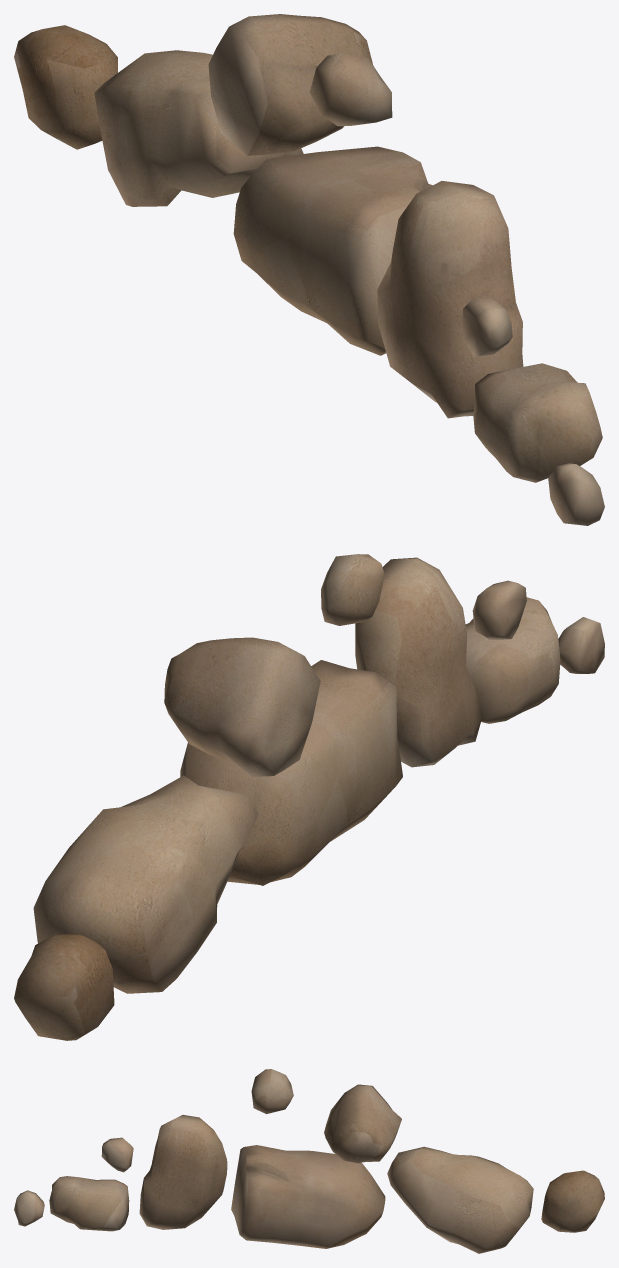
Rendered from props_coalmines_boulder_pile2.glb.
3 views of the same model, one above another, from view 1: azimuth 30°, elevation 25°; view 2: azimuth 150°, elevation 25°; view 3: azimuth 270°, elevation 25° (orthographic). The views are drawn at different scales.
Parts seen in each view (by area): view 1: models/props_coalmines/boulder_pile2; view 2: models/props_coalmines/boulder_pile2; view 3: models/props_coalmines/boulder_pile2.
Part boxes in pixels (left/top/right/bottom): models/props_coalmines/boulder_pile2: left=14, top=14, right=604, bottom=525; models/props_coalmines/boulder_pile2: left=14, top=554, right=604, bottom=1040; models/props_coalmines/boulder_pile2: left=14, top=1069, right=604, bottom=1253.
Bounding box in the file's own units: 22.83 × 43.66 × 146.
Materials: 1 (1 with a texture image).
